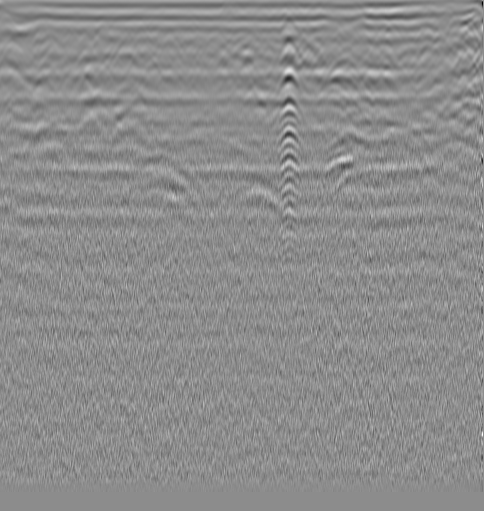가스: (133, 152, 185, 189)
상수: (425, 25, 445, 45)
오수: (40, 32, 60, 52)
우수: (237, 39, 257, 59)
